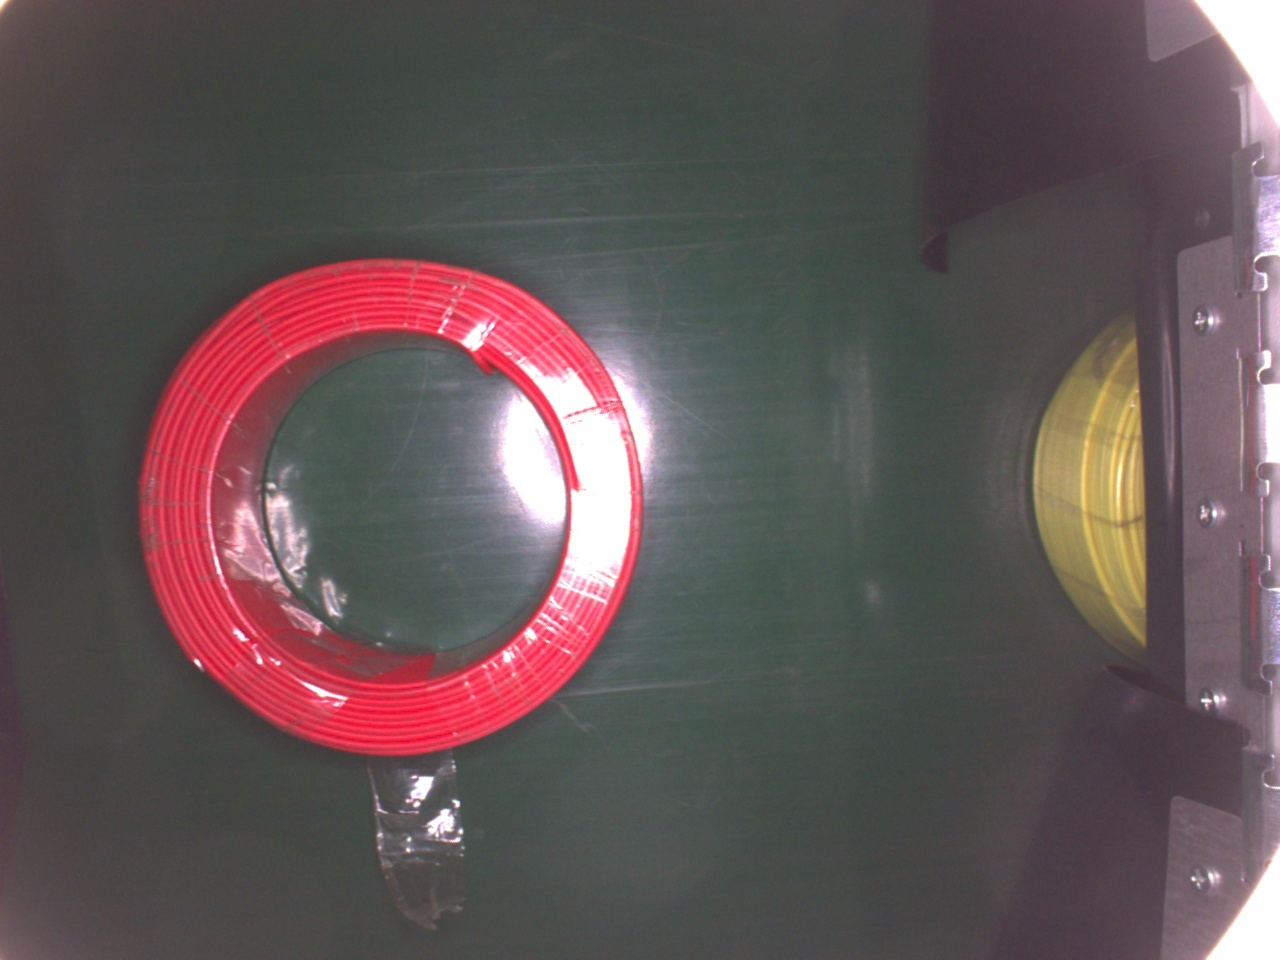red: (129, 253, 660, 761)
yellow: (1031, 298, 1148, 663)
